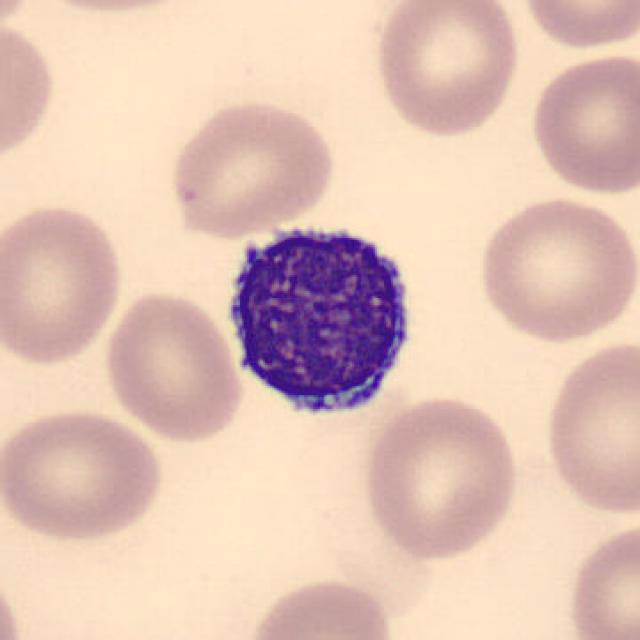Lymphocyte: (215, 206, 427, 432)
RBC: (359, 392, 523, 564), (163, 95, 340, 240), (473, 192, 638, 346), (0, 404, 167, 546), (100, 286, 246, 444), (0, 198, 128, 368), (370, 0, 524, 141), (539, 333, 638, 522), (524, 49, 638, 198), (242, 573, 400, 640), (0, 12, 60, 172), (562, 518, 640, 640), (518, 0, 638, 53), (18, 0, 210, 16)
